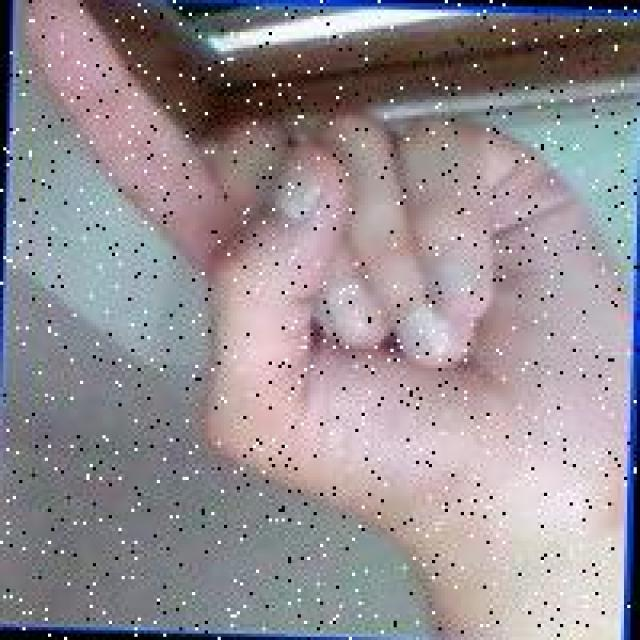Z: (6, 1, 640, 532)
